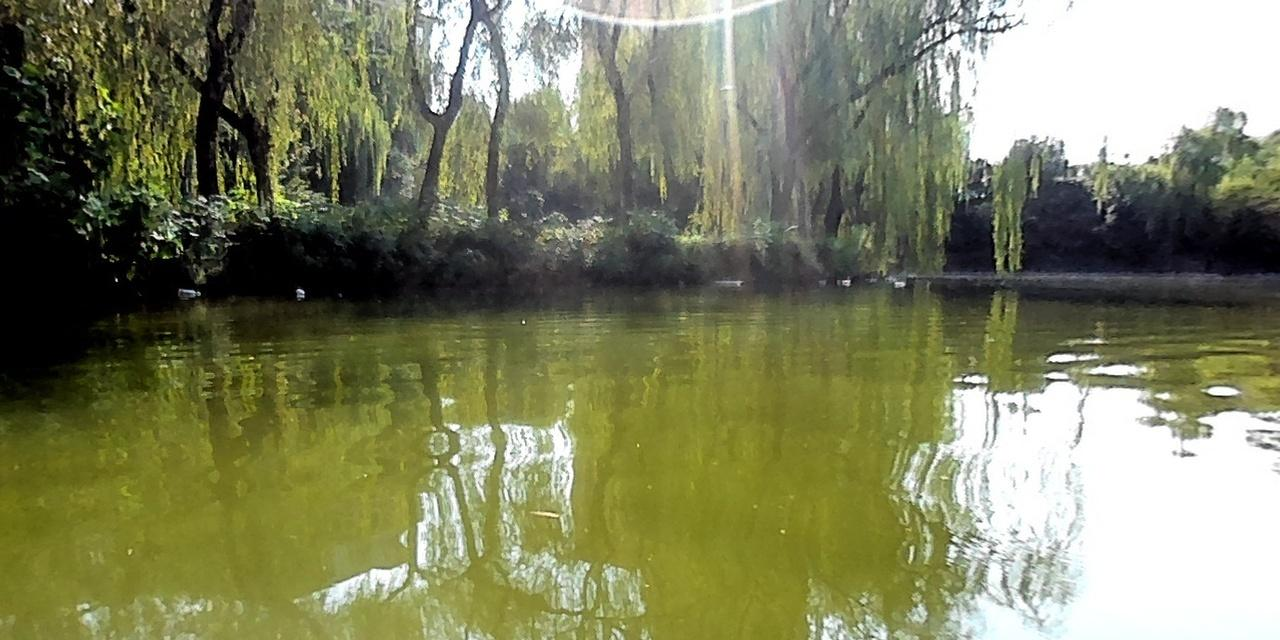bottle: (176, 287, 199, 298), (294, 287, 304, 298), (893, 280, 904, 287)
